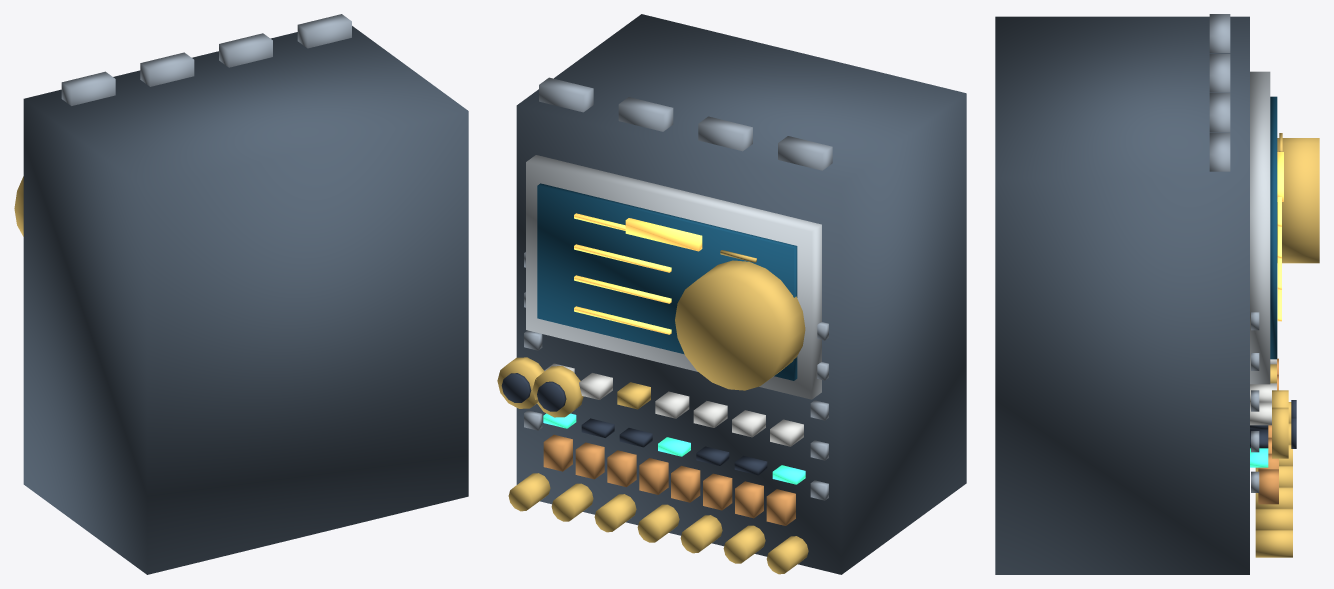
The model's file is L87_60_RotaryPowerIsolationContactor_Fitted.fbx.
3 renders of one model, left to right at view 1: azimuth 30°, elevation 25°; view 2: azimuth 150°, elevation 25°; view 3: azimuth 270°, elevation 25°, orthographic. The views are drawn at different scales.
Visible parts, largest first — view 1: L87_RotaryPowerIsolationContactor_Static__tint1A2430, L87_RotaryPowerIsolationContactor_ANIM_ROTARY_POWER_CONTACTO; view 2: L87_RotaryPowerIsolationContactor_Static__tint1A2430, L87_RotaryPowerIsolationContactor_Static__tint041F3B, L87_RotaryPowerIsolationContactor_ANIM_ROTARY_POWER_CONTACTO (×3), L87_RotaryPowerIsolationContactor_Static__tintB0BFCC, L87_RotaryPowerIsolationContactor_Static__tintF5A62B, L87_RotaryPowerIsolationContactor_Static__tintD96621, L87_RotaryPowerIsolationContactor_Static__tintE3E6E0, L87_RotaryPowerIsolationContactor_Static__tint0A0F1A, L87_RotaryPowerIsolationContactor_Static__tintFF941F, L87_RotaryPowerIsolationContactor_Static__tint617387, L87_RotaryPowerIsolationContactor_Static__tint0FE88A; view 3: L87_RotaryPowerIsolationContactor_Static__tint1A2430, L87_RotaryPowerIsolationContactor_ANIM_ROTARY_POWER_CONTACTO (×2), L87_RotaryPowerIsolationContactor_Static__tintB0BFCC, L87_RotaryPowerIsolationContactor_Static__tintF5A62B, L87_RotaryPowerIsolationContactor_Static__tint041F3B, L87_RotaryPowerIsolationContactor_Static__tintD96621, L87_RotaryPowerIsolationContactor_Static__tint617387, L87_RotaryPowerIsolationContactor_Static__tintE3E6E0, L87_RotaryPowerIsolationContactor_Static__tintFF941F, L87_RotaryPowerIsolationContactor_Static__tint0A0F1A.
Boxes of the visible parts, left/top/right/bottom form: L87_RotaryPowerIsolationContactor_Static__tint1A2430: left=23, top=26, right=468, bottom=574; L87_RotaryPowerIsolationContactor_ANIM_ROTARY_POWER_CONTACTO: left=61, top=14, right=351, bottom=105; L87_RotaryPowerIsolationContactor_Static__tint1A2430: left=516, top=14, right=966, bottom=574; L87_RotaryPowerIsolationContactor_Static__tint041F3B: left=537, top=183, right=797, bottom=380; L87_RotaryPowerIsolationContactor_ANIM_ROTARY_POWER_CONTACTO (×3): left=539, top=77, right=832, bottom=390; L87_RotaryPowerIsolationContactor_Static__tintB0BFCC: left=526, top=155, right=821, bottom=399; L87_RotaryPowerIsolationContactor_Static__tintF5A62B: left=497, top=250, right=808, bottom=574; L87_RotaryPowerIsolationContactor_Static__tintD96621: left=543, top=434, right=795, bottom=525; L87_RotaryPowerIsolationContactor_Static__tintE3E6E0: left=544, top=363, right=803, bottom=446; L87_RotaryPowerIsolationContactor_Static__tint0A0F1A: left=501, top=373, right=767, bottom=475; L87_RotaryPowerIsolationContactor_Static__tintFF941F: left=574, top=213, right=671, bottom=334; L87_RotaryPowerIsolationContactor_Static__tint617387: left=524, top=252, right=828, bottom=500; L87_RotaryPowerIsolationContactor_Static__tint0FE88A: left=543, top=413, right=805, bottom=484; L87_RotaryPowerIsolationContactor_Static__tint1A2430: left=995, top=16, right=1249, bottom=574; L87_RotaryPowerIsolationContactor_ANIM_ROTARY_POWER_CONTACTO (×2): left=1209, top=14, right=1319, bottom=263; L87_RotaryPowerIsolationContactor_Static__tintB0BFCC: left=1250, top=71, right=1270, bottom=384; L87_RotaryPowerIsolationContactor_Static__tintF5A62B: left=1255, top=133, right=1292, bottom=557; L87_RotaryPowerIsolationContactor_Static__tint041F3B: left=1270, top=96, right=1277, bottom=359; L87_RotaryPowerIsolationContactor_Static__tintD96621: left=1258, top=358, right=1278, bottom=504; L87_RotaryPowerIsolationContactor_Static__tint617387: left=1251, top=312, right=1259, bottom=492; L87_RotaryPowerIsolationContactor_Static__tintE3E6E0: left=1250, top=359, right=1276, bottom=425; L87_RotaryPowerIsolationContactor_Static__tintFF941F: left=1277, top=197, right=1281, bottom=321; L87_RotaryPowerIsolationContactor_Static__tint0A0F1A: left=1250, top=400, right=1296, bottom=448.
Size of the model in its own units: 9.31 by 11.13 by 7.9.
